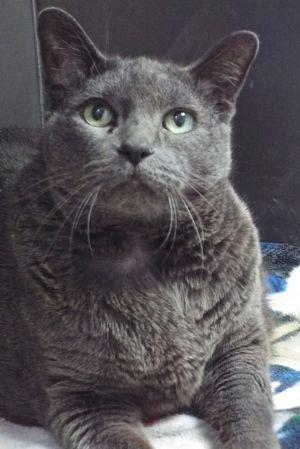rblue: (26, 1, 267, 231)
